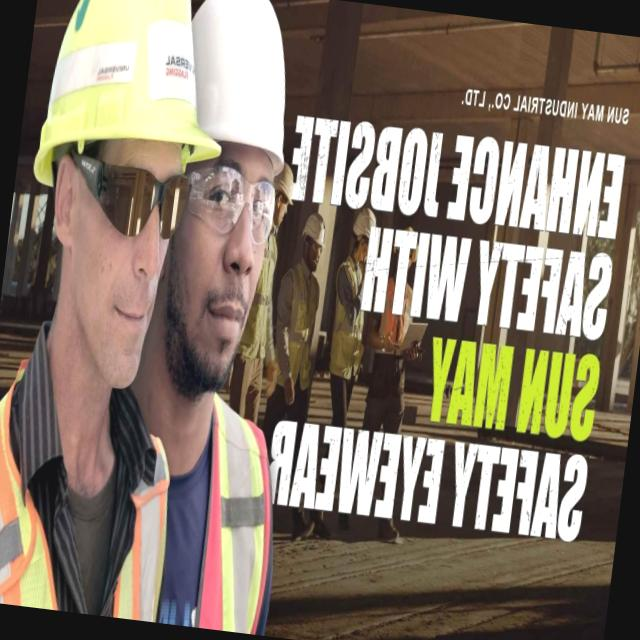goggles: (56, 144, 190, 246), (170, 161, 282, 251)
helmet: (28, 0, 240, 213), (167, 0, 306, 183)
vest: (0, 349, 191, 622), (180, 389, 296, 636)
